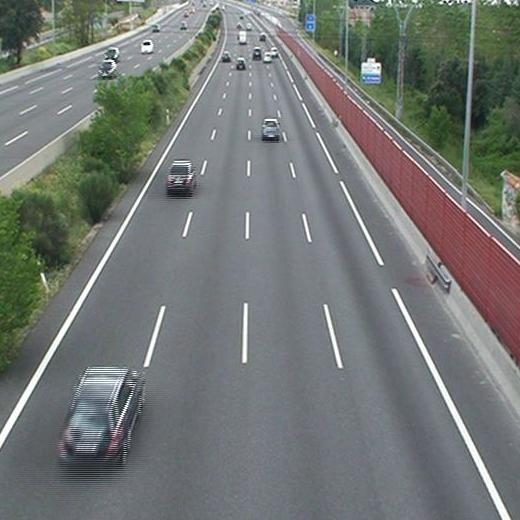car: (60, 366, 143, 458), (166, 161, 195, 190), (262, 120, 280, 139), (235, 58, 246, 70), (221, 51, 231, 62), (252, 48, 262, 58), (263, 53, 272, 62), (257, 33, 267, 41), (271, 48, 279, 55)
van: (238, 31, 247, 45)
